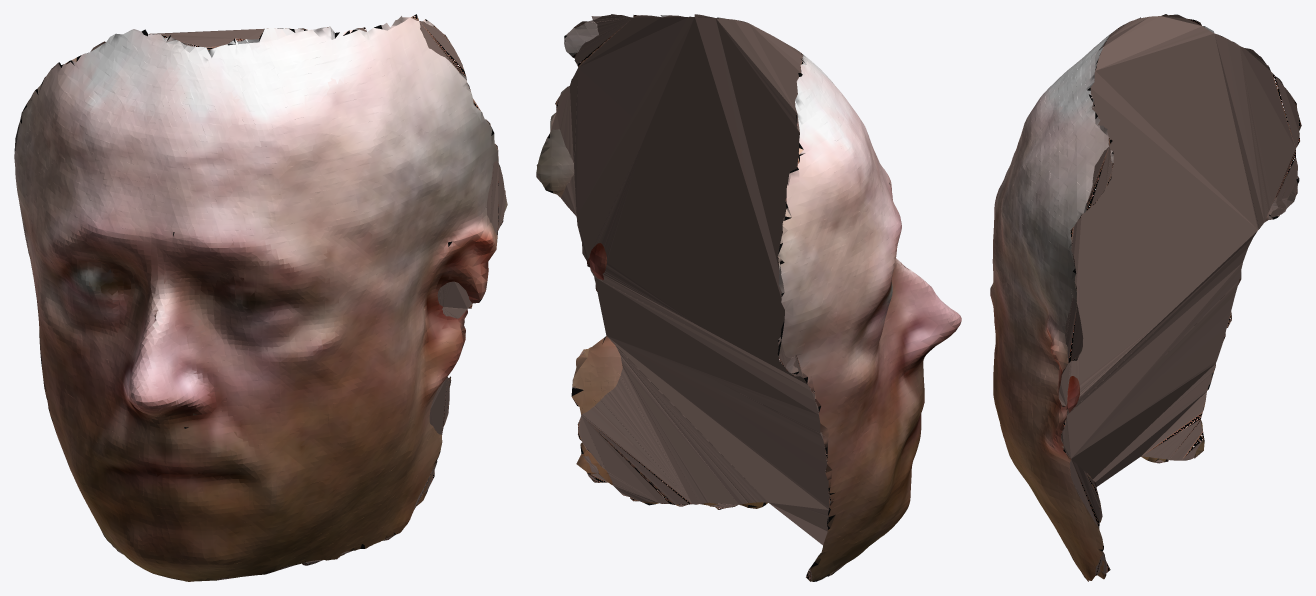
The picture shows the model from 3 angles, left to right: view 1: azimuth 30°, elevation 25°; view 2: azimuth 150°, elevation 25°; view 3: azimuth 270°, elevation 25°; orthographic projection. The views are drawn at different scales.
Bounding box in the file's own units: 0.1941 × 0.2417 × 0.1419.
1 material, 1 textured.
